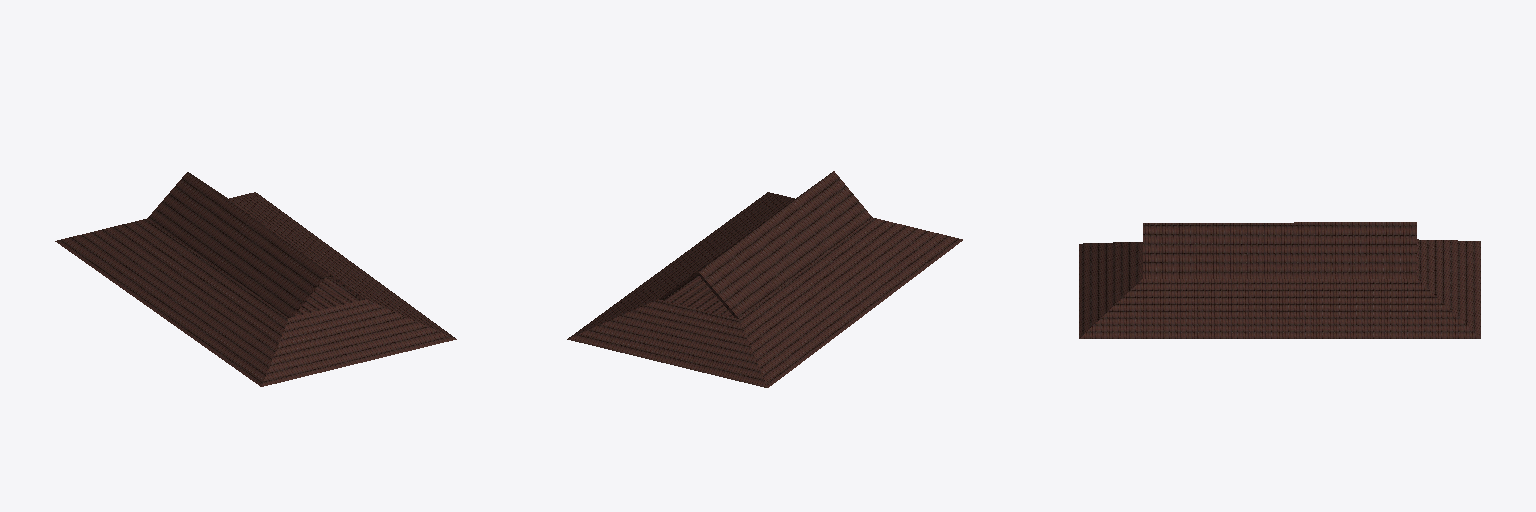
The picture shows the model from 3 angles: view 1: azimuth 30°, elevation 25°; view 2: azimuth 150°, elevation 25°; view 3: azimuth 270°, elevation 25°; orthographic projection.
Visible parts, largest first — view 1: Roof; view 2: Roof; view 3: Roof.
Boxes of the visible parts, x1=… form: Roof: x1=55, y1=172, x2=456, y2=386; Roof: x1=567, y1=171, x2=962, y2=387; Roof: x1=1079, y1=222, x2=1480, y2=338.
Bounding box in the file's own units: 11.65 × 3.78 × 20.2.
Materials: 1 (1 with a texture image).